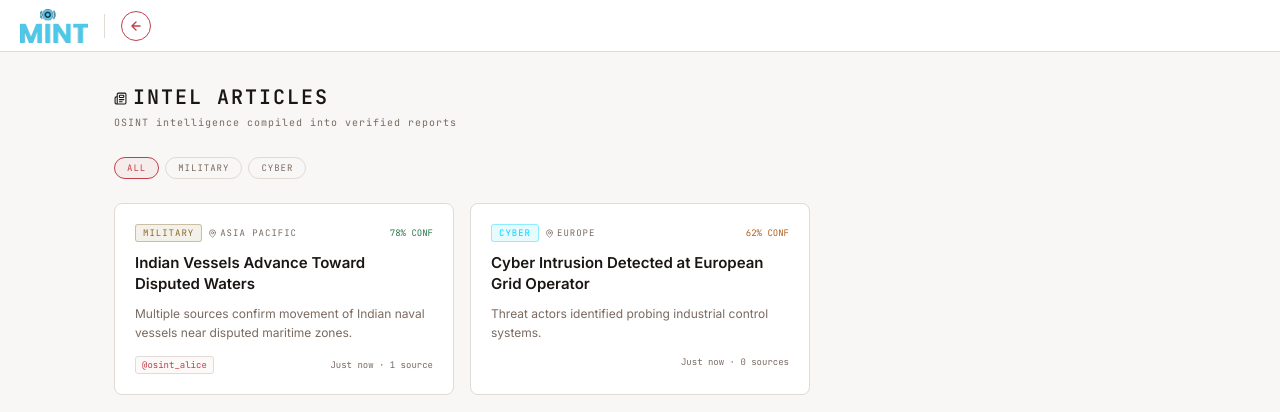
Test: ArticlesPage › clears filter when ALL is clicked
Click the button "CYBER": point(277, 168) [248,157,306,179]
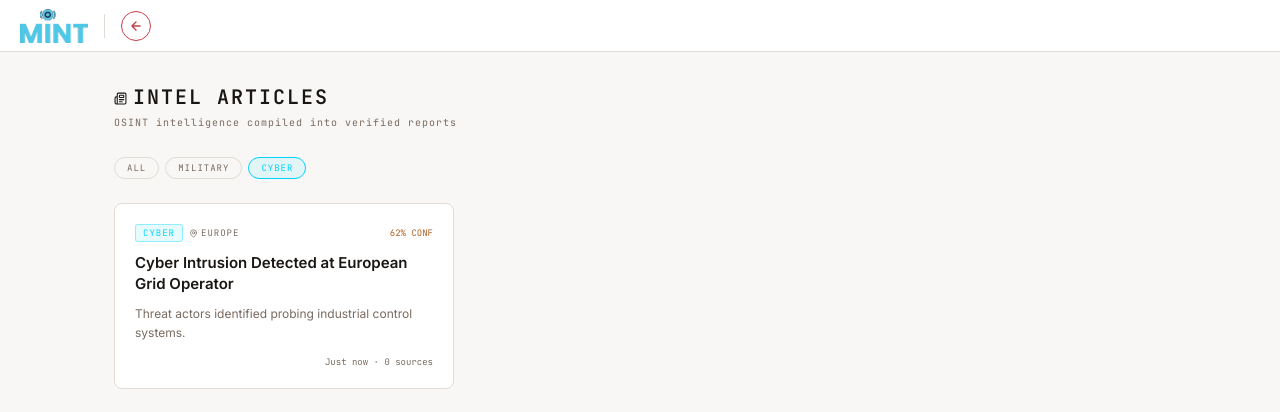
Click the button "ALL": point(137, 168) [114,157,159,179]
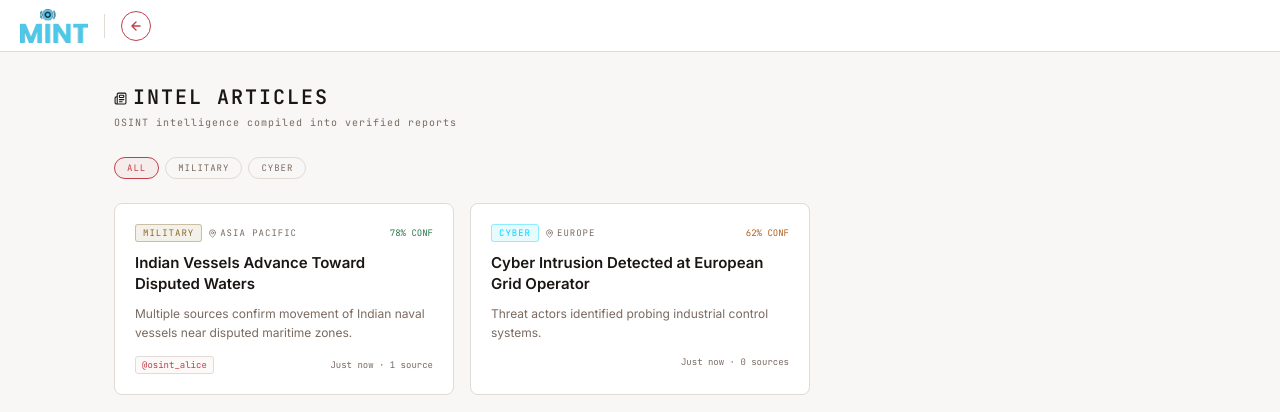
Expected: the text "Cyber Intrusion Detected at European Grid Operator" is shown, [491,252,789,294]
Now the text "Indian Vessels Advance Toward Disputed Waters" is shown, box [135,253,365,293]
